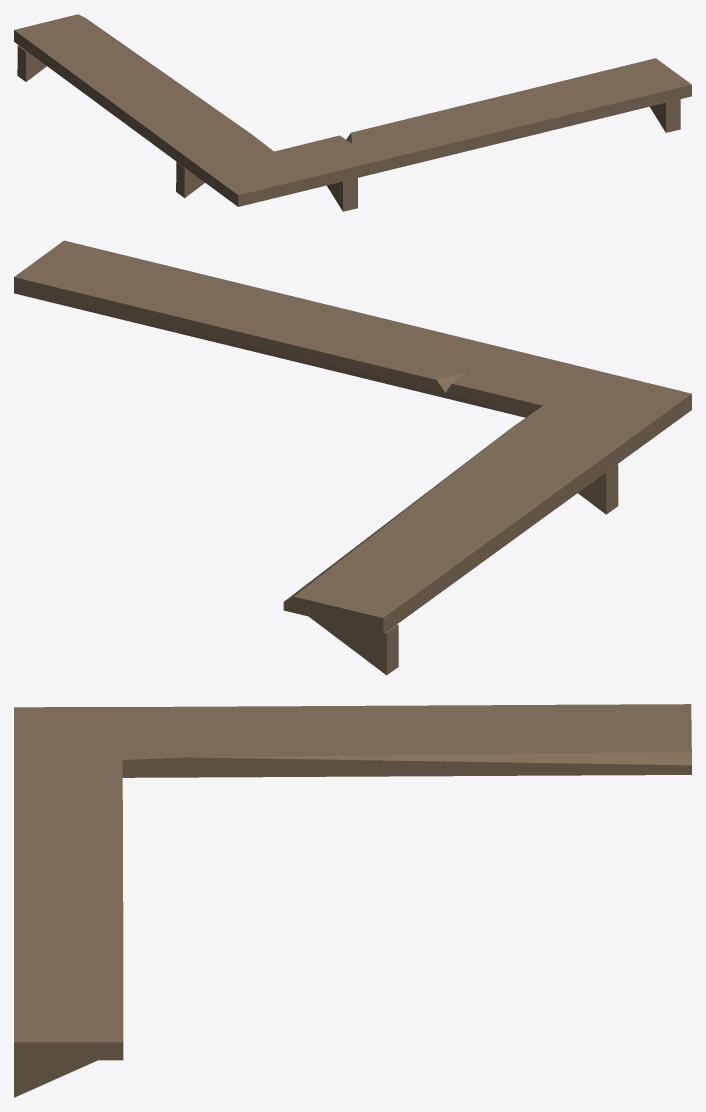
The model's file is EA03_Prop_Shelf_01b.glb.
3 views of the same model, one above another, from view 1: azimuth 30°, elevation 25°; view 2: azimuth 150°, elevation 25°; view 3: azimuth 270°, elevation 25° (orthographic). The views are drawn at different scales.
Parts seen in each view (by area): view 1: EA03_Prop_Shelf_01b; view 2: EA03_Prop_Shelf_01b; view 3: EA03_Prop_Shelf_01b.
Boxes of the visible parts, x1=… form: EA03_Prop_Shelf_01b: x1=14, y1=14, x2=691, y2=211; EA03_Prop_Shelf_01b: x1=14, y1=240, x2=691, y2=675; EA03_Prop_Shelf_01b: x1=14, y1=704, x2=691, y2=1097.
Bounding box in the file's own units: 2.52 × 0.2323 × 2.15.
1 material, 1 textured.
